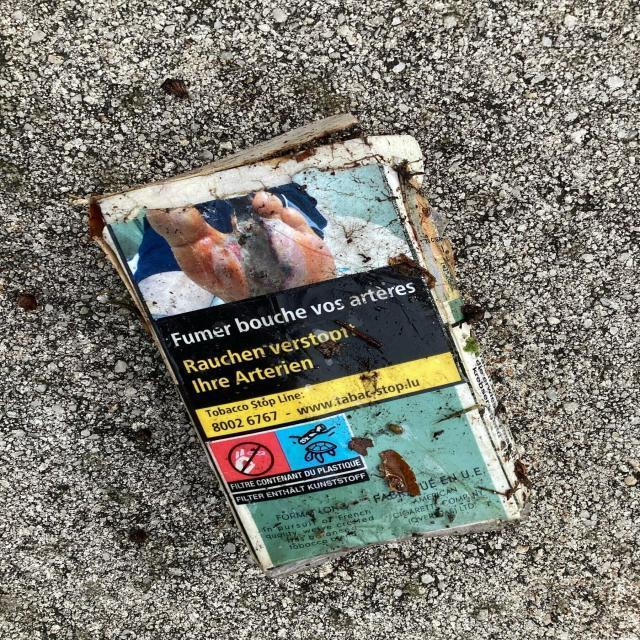Paper: (83, 111, 530, 574)
